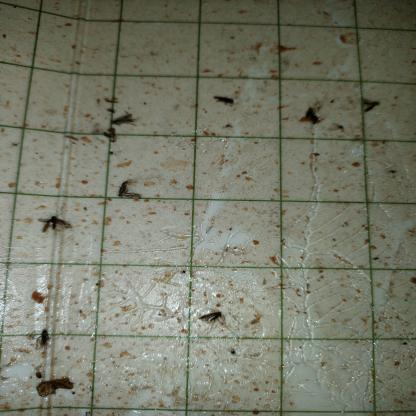prays_oleae: (287, 96, 326, 134), (39, 212, 72, 245), (111, 101, 139, 138), (358, 87, 386, 120), (211, 87, 233, 116), (196, 305, 226, 325), (115, 172, 128, 208)
